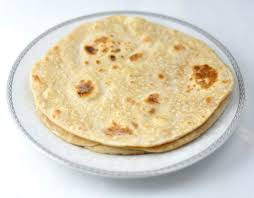roti: (31, 13, 229, 165)
